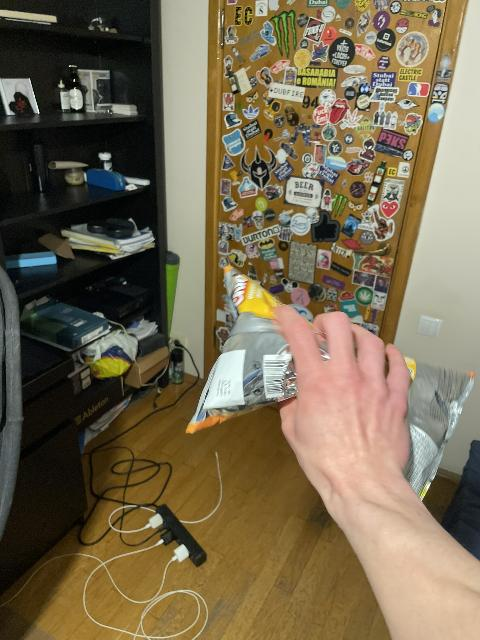Chio Cascaval 125g: (184, 262, 473, 505)
